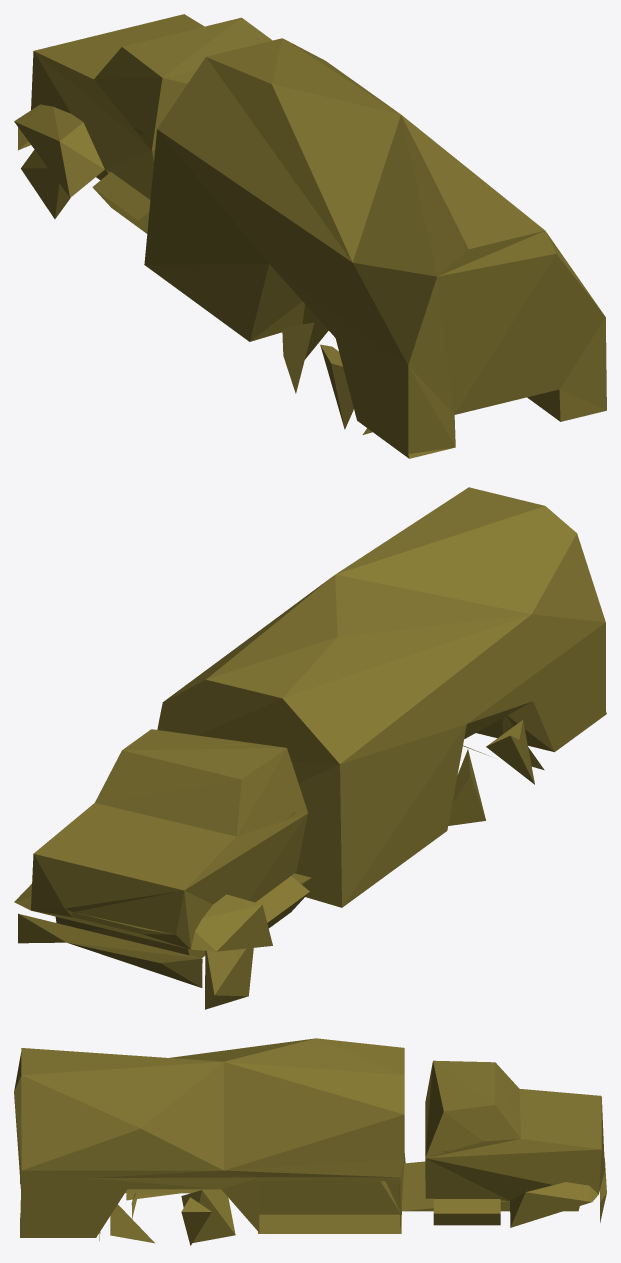
Rendered from fuel-truck.lod2.glb.
The picture shows the model from 3 angles, top to bottom: view 1: azimuth 30°, elevation 25°; view 2: azimuth 150°, elevation 25°; view 3: azimuth 270°, elevation 25°; orthographic projection. The views are drawn at different scales.
Parts seen in each view (by area): view 1: Object_2; view 2: Object_2; view 3: Object_2.
Part boxes in pixels (x1,y1,x2,y2): Object_2: (14,14,606,458); Object_2: (14,487,606,1009); Object_2: (14,1038,606,1245).
Size of the model in its own units: 2.31 by 2.52 by 8.02.
